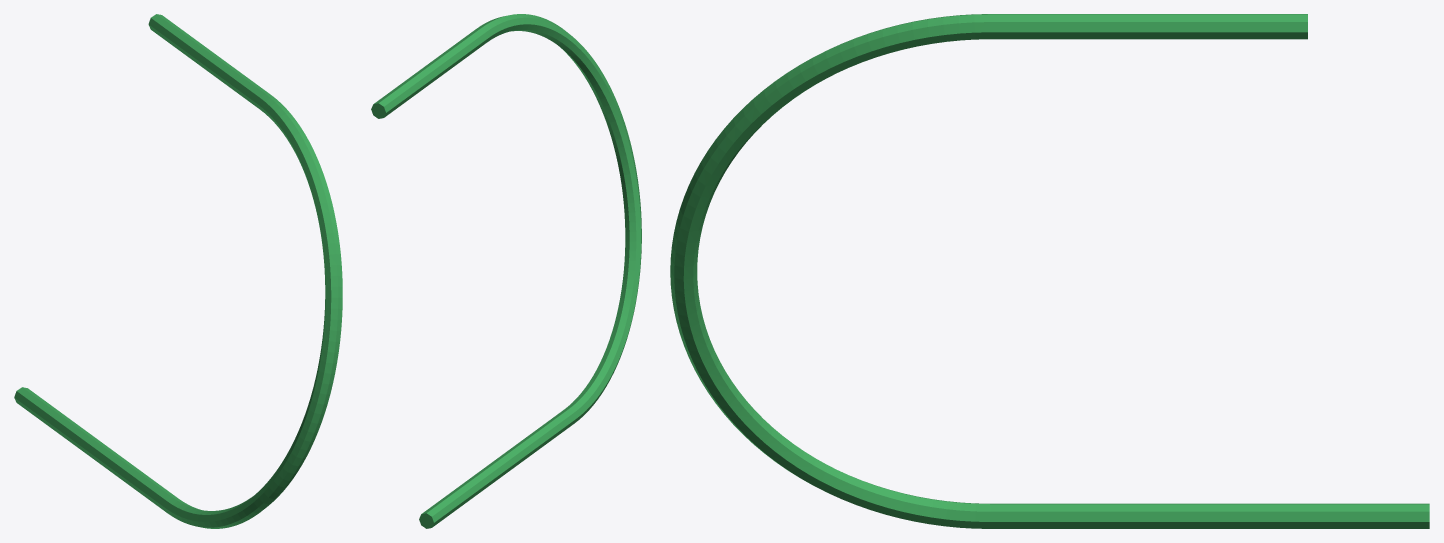
Rendered from J2_cavity_2_green_Alpha3057_16AWG.glb.
3 views of the same model, side by side, from view 1: azimuth 30°, elevation 25°; view 2: azimuth 150°, elevation 25°; view 3: azimuth 270°, elevation 25° (orthographic). The views are drawn at different scales.
Visible parts, largest first — view 1: J2 cavity 2 green Alpha3057_16AWG; view 2: J2 cavity 2 green Alpha3057_16AWG; view 3: J2 cavity 2 green Alpha3057_16AWG.
Boxes of the visible parts, x1,y1,x2,y2 form: J2 cavity 2 green Alpha3057_16AWG: [14, 14, 342, 528]; J2 cavity 2 green Alpha3057_16AWG: [371, 14, 641, 528]; J2 cavity 2 green Alpha3057_16AWG: [670, 14, 1429, 528].
Bounding box in the file's own units: 16.21 × 56.79 × 67.39.
